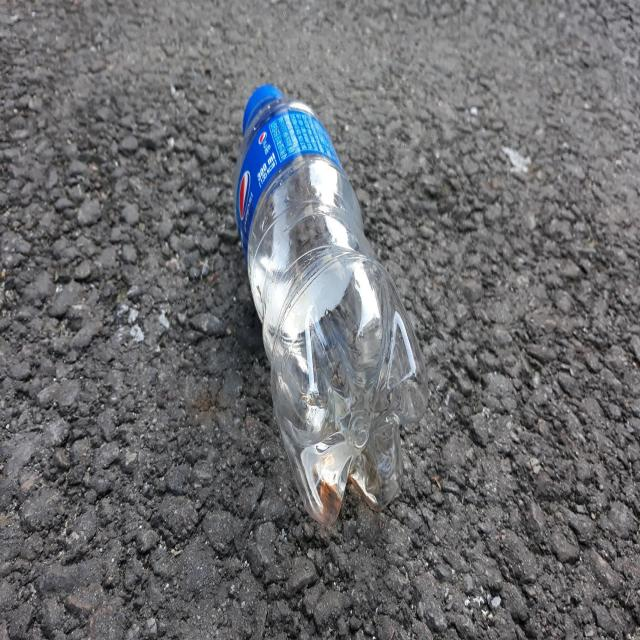plastic: (233, 84, 429, 525)
